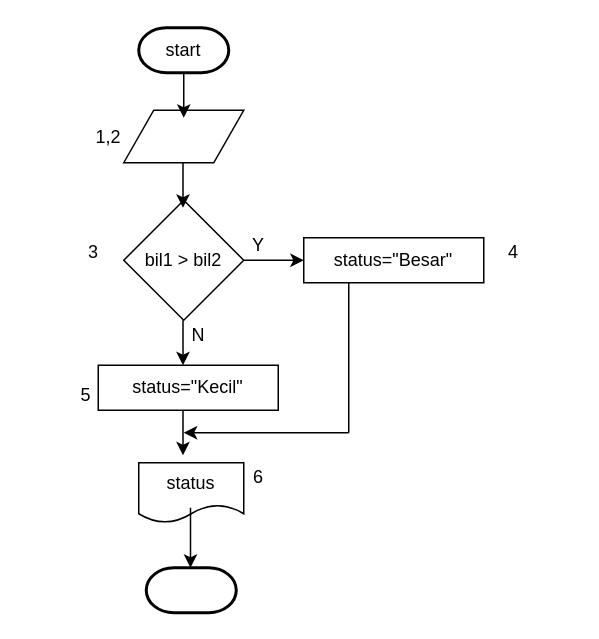
Some shapes in this 599 by 639 pixel diagram are drawn without their labels. The shapes that lost their labels are listed below. From the top down, each one's centre as x and y in pixels, then its label:
the point at 183,136: bil, bil2
the point at 190,590: end
